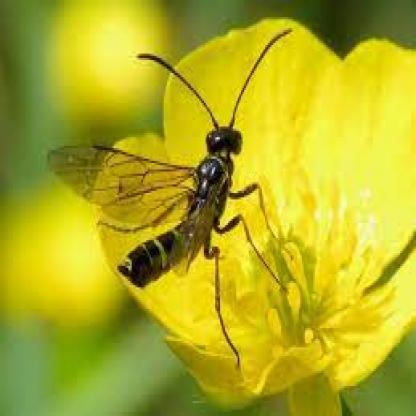sawfly: (52, 33, 308, 342)
